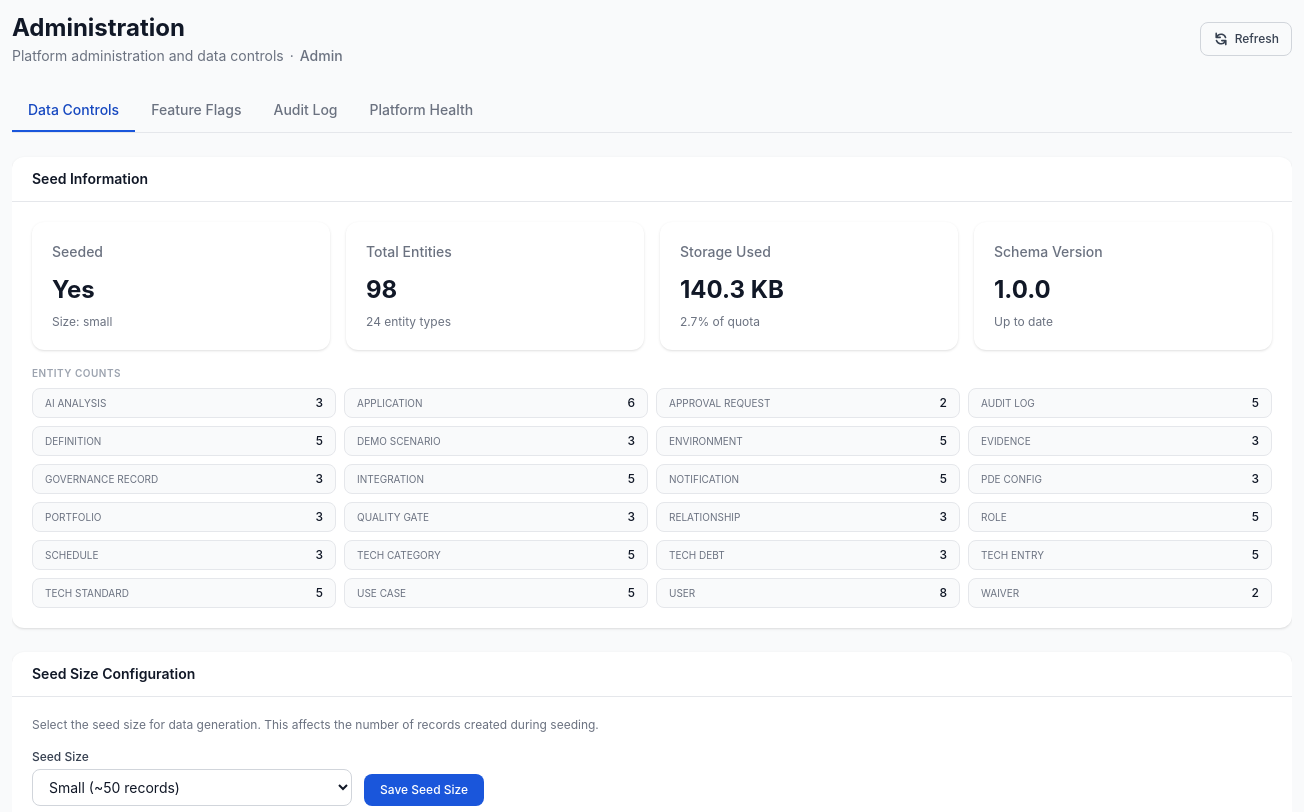
AdministrationPage › Feature Flags tab › renders AI Panels feature flag
Click the tab "Feature Flags" at coordinates (196, 111), box [135,90,258,132]
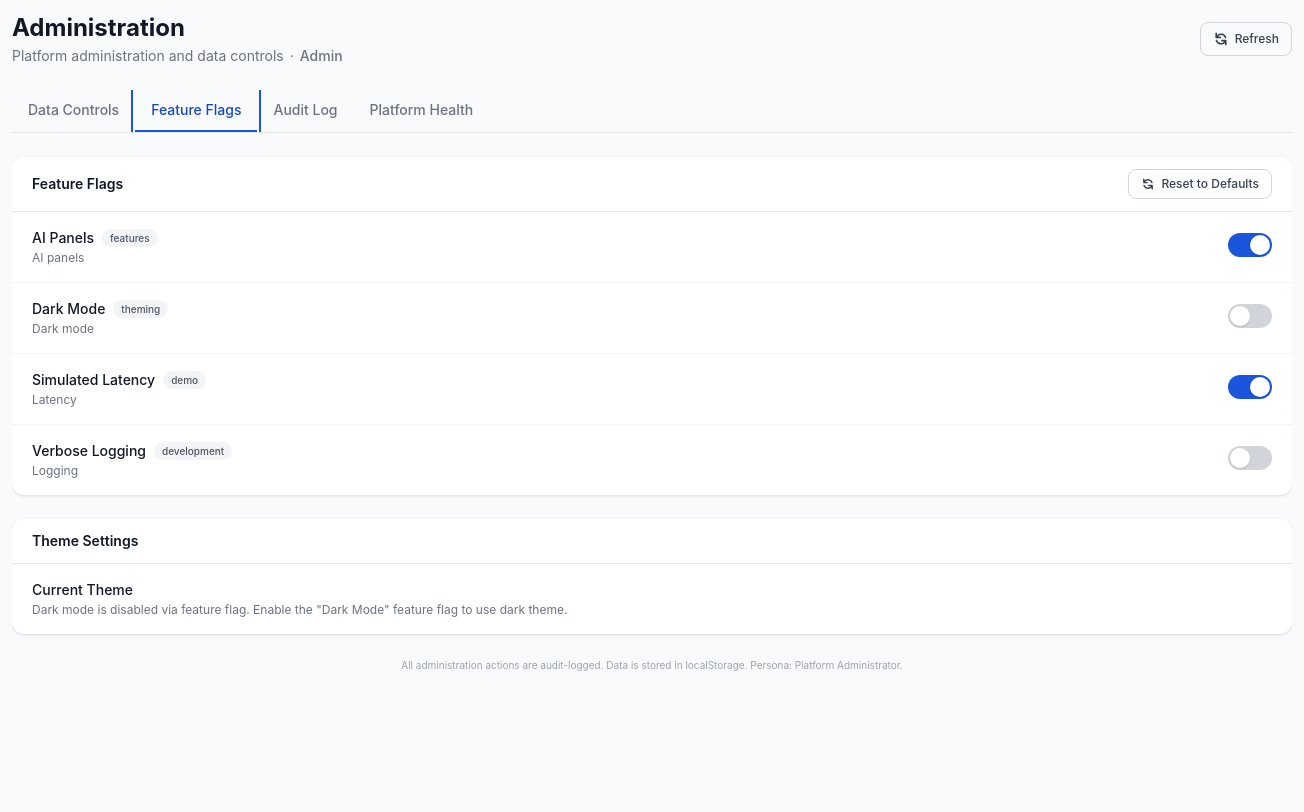
Expected: the text "AI Panels" is shown, [32,228,94,248]
